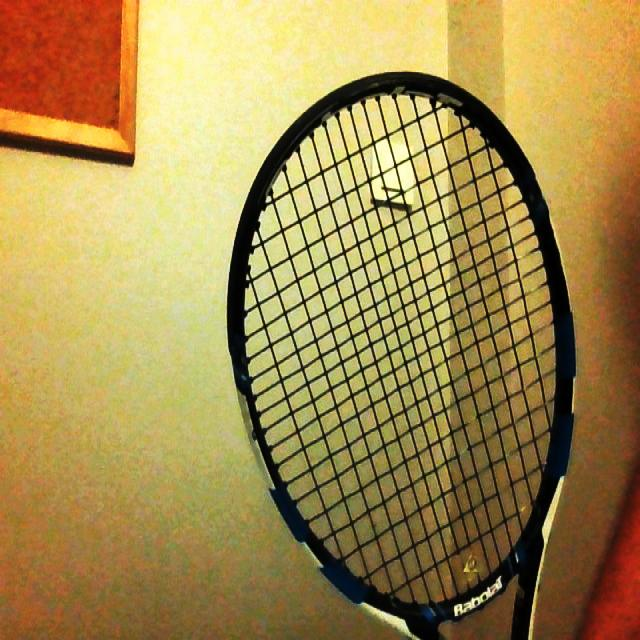TennisRacket: (228, 67, 576, 640)
